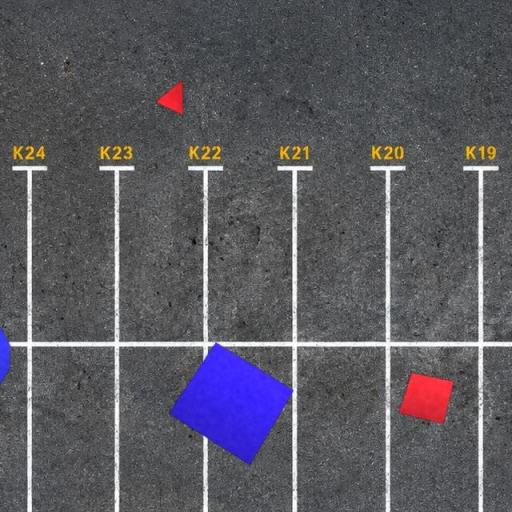BLUE_SQUARE: (168, 342, 294, 466)
RED_SQUARE: (398, 372, 456, 425)
